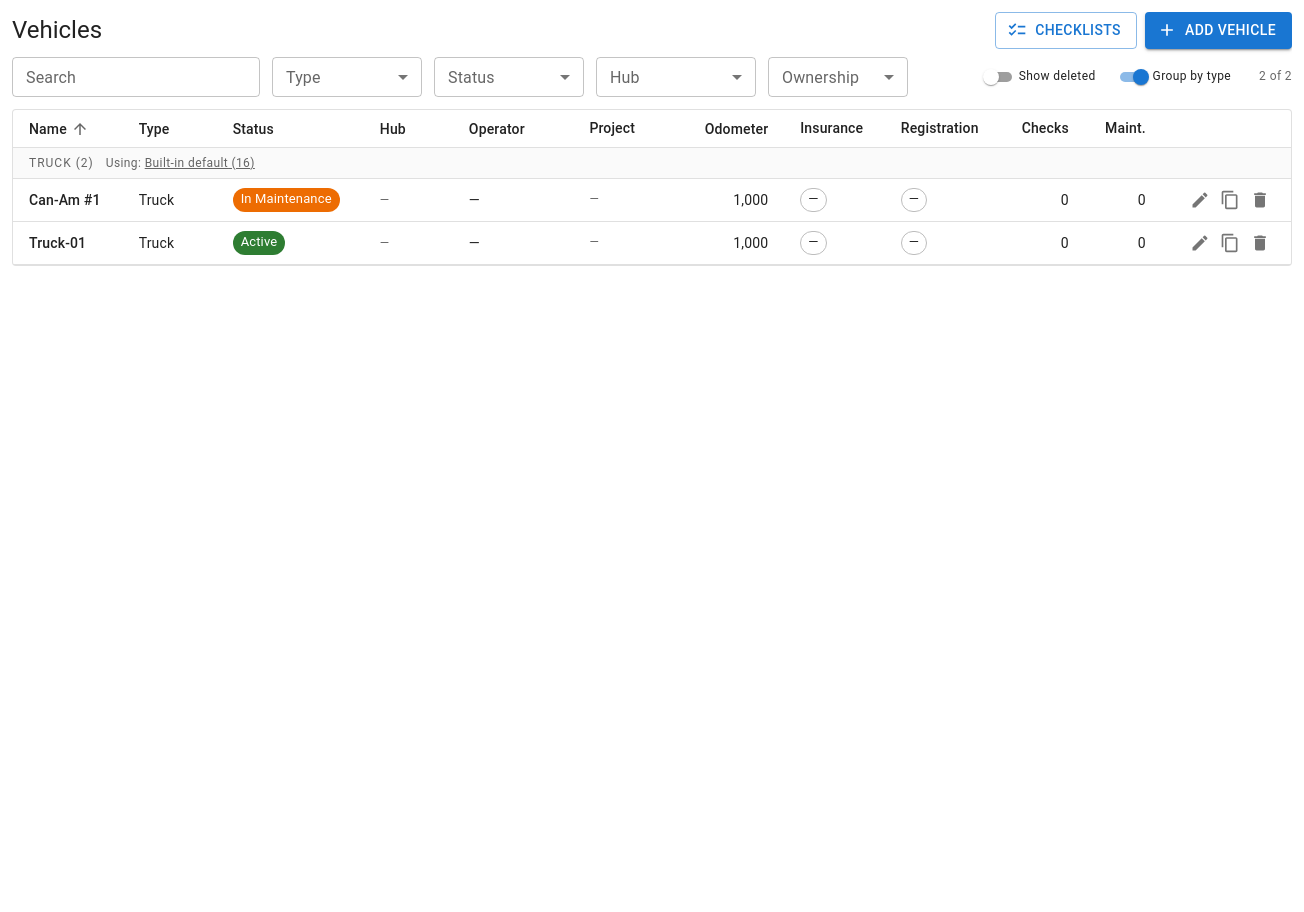
Scenario: vehicles — Delete, Undo, Show deleted → Restore, ?status= › Show deleted reads deleted=1; a deleted row carries its badge and only Restore
The width and height of the screenshot is (1304, 912).
Expected: the text "Truck-01" is shown, top-left (29, 233), bottom-right (86, 253)
Step 1. Click the checkbox labelled "Show deleted" → point(1037, 76), box top-left (979, 64), bottom-right (1096, 88)
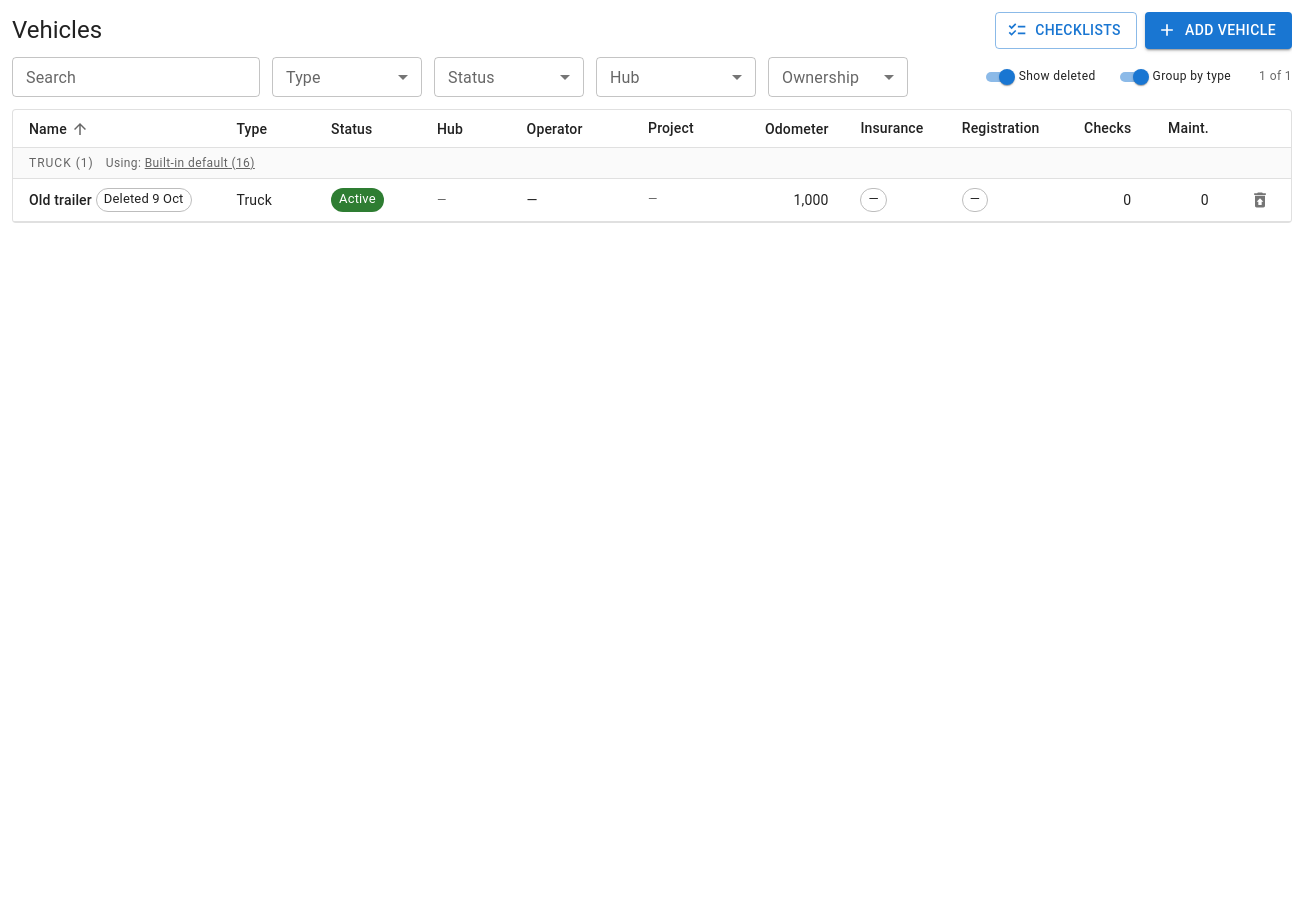
Now the text "Old trailer" is shown, box top-left (29, 190), bottom-right (92, 210)
Now the text "Deleted 9 Oct" is shown, box top-left (97, 190), bottom-right (191, 209)
Now the button "Edit" is gone
Step 2. Click the button named "Restore" → point(1260, 200), box top-left (1245, 185), bottom-right (1275, 215)
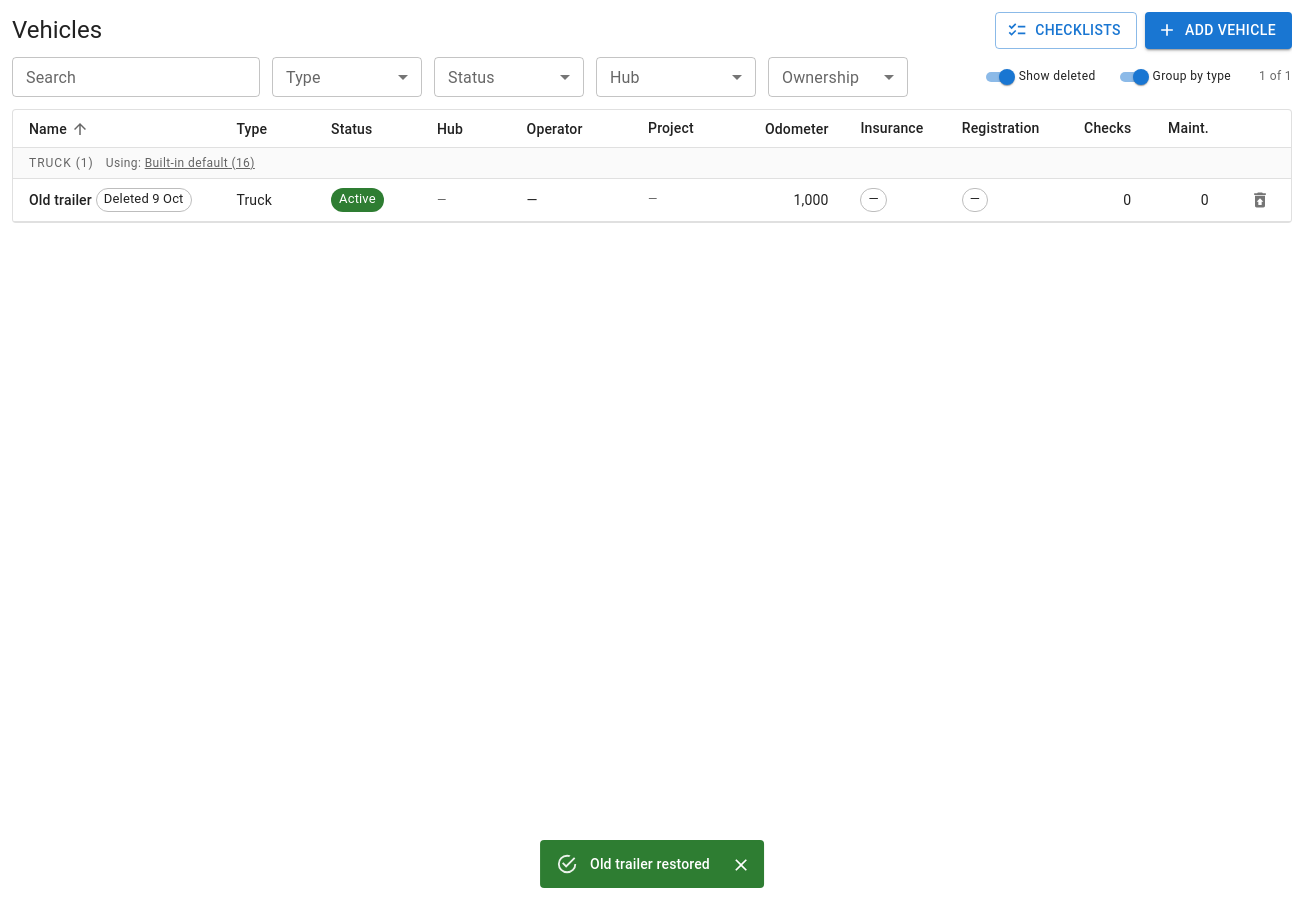
Now the text "Old trailer restored" is shown, box top-left (590, 856), bottom-right (710, 872)
